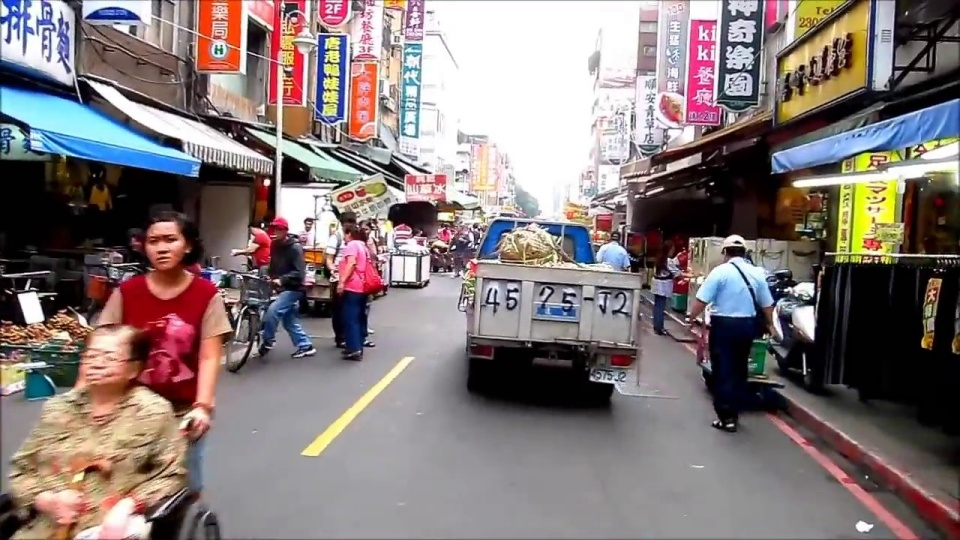person_head: (136, 215, 203, 274), (81, 327, 145, 387), (265, 218, 292, 243), (722, 243, 745, 260), (341, 225, 363, 241), (249, 219, 264, 235), (303, 215, 317, 230), (339, 213, 356, 225), (660, 243, 675, 256), (610, 229, 623, 243)
person_vbox: (62, 216, 233, 495), (1, 316, 194, 540), (685, 240, 774, 426), (253, 217, 318, 363), (323, 211, 375, 350), (330, 225, 378, 360), (650, 242, 700, 337), (228, 219, 274, 270), (594, 228, 631, 273)
